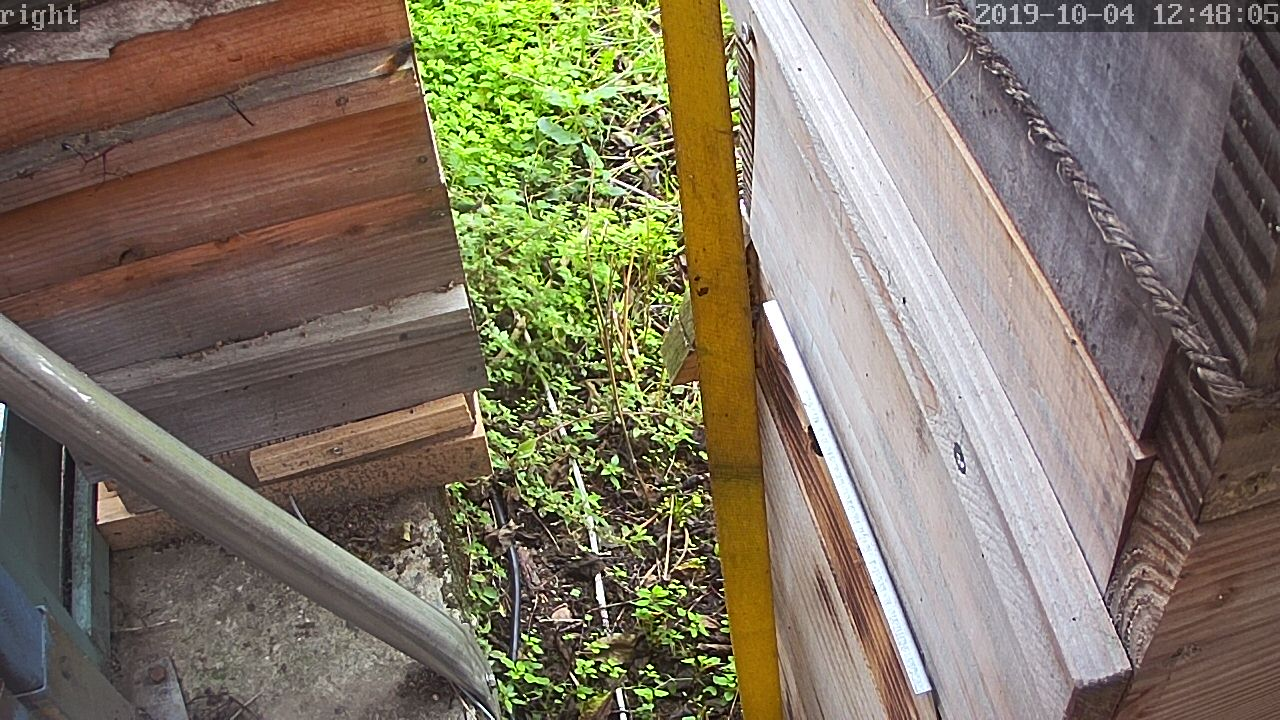hornet: (391, 32, 424, 88), (682, 442, 712, 489)
